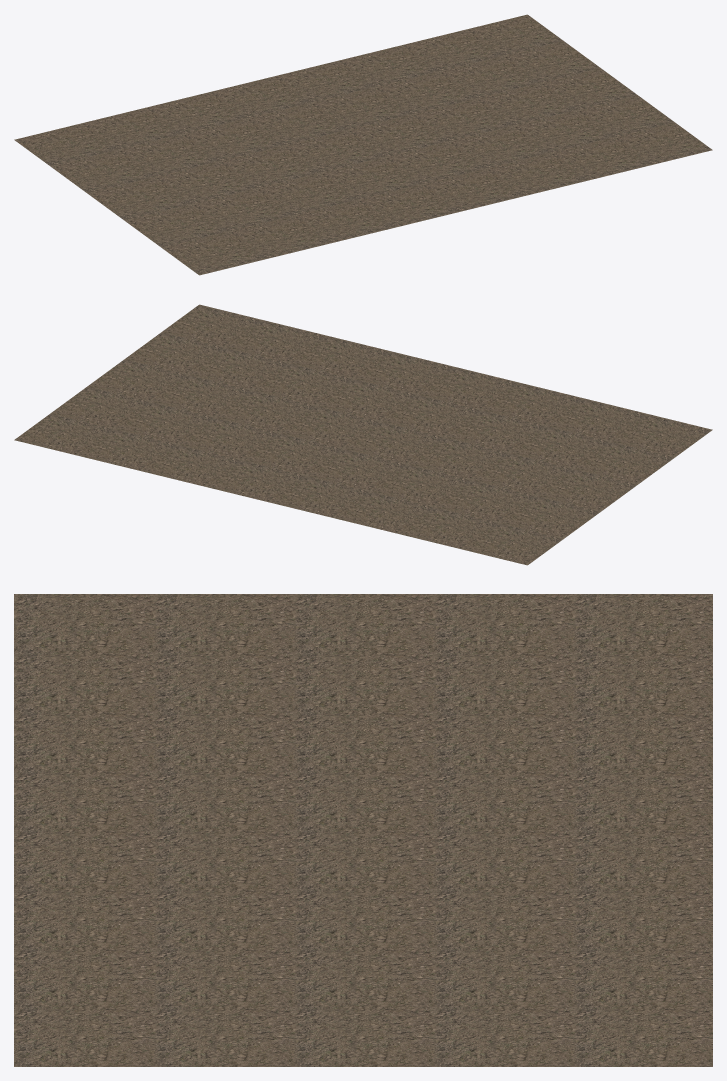
3 views of the same model, one above another, from view 1: azimuth 30°, elevation 25°; view 2: azimuth 150°, elevation 25°; view 3: azimuth 270°, elevation 25° (orthographic). The views are drawn at different scales.
Parts seen in each view (by area): view 1: bq_pps_Grass_Lawn-Semi-Dry_A_summer-autumn; view 2: bq_pps_Grass_Lawn-Semi-Dry_A_summer-autumn; view 3: bq_pps_Grass_Lawn-Semi-Dry_A_summer-autumn.
Boxes of the visible parts, left/top/right/bottom form: bq_pps_Grass_Lawn-Semi-Dry_A_summer-autumn: left=14, top=14, right=712, bottom=275; bq_pps_Grass_Lawn-Semi-Dry_A_summer-autumn: left=14, top=304, right=712, bottom=565; bq_pps_Grass_Lawn-Semi-Dry_A_summer-autumn: left=14, top=594, right=712, bottom=1066.
Size of the model in its own units: 40 by 0 by 25.
1 material, 1 textured.
